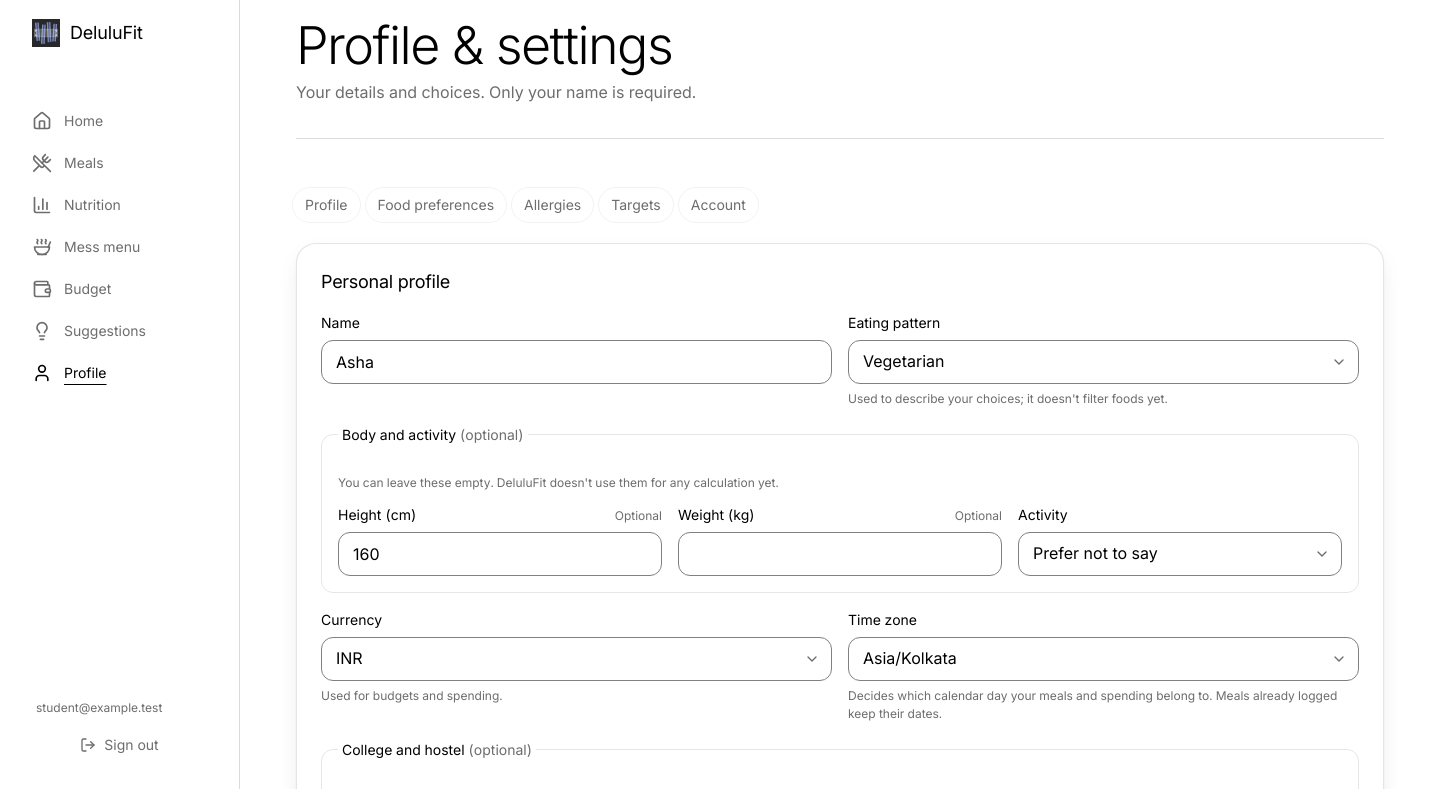
Test: personal profile › keeps the student's input when the server rejects or fails
Replace the text in the field labelled "Name" with "Ravi K" at (576, 362), box 321,340 -> 832,384
(page scrolled)
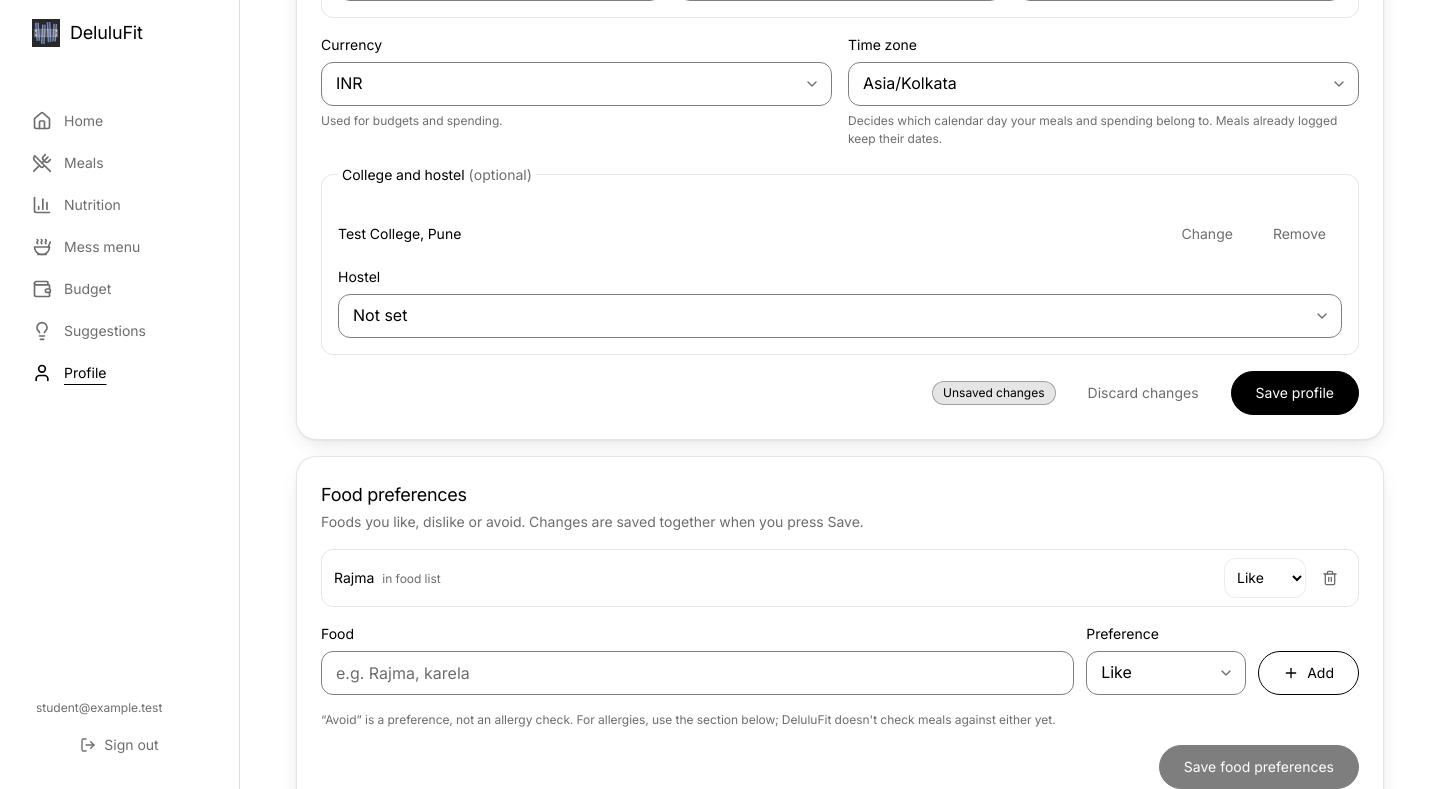
Click the button "Save profile" at (1295, 393), box 1230,371 -> 1359,415
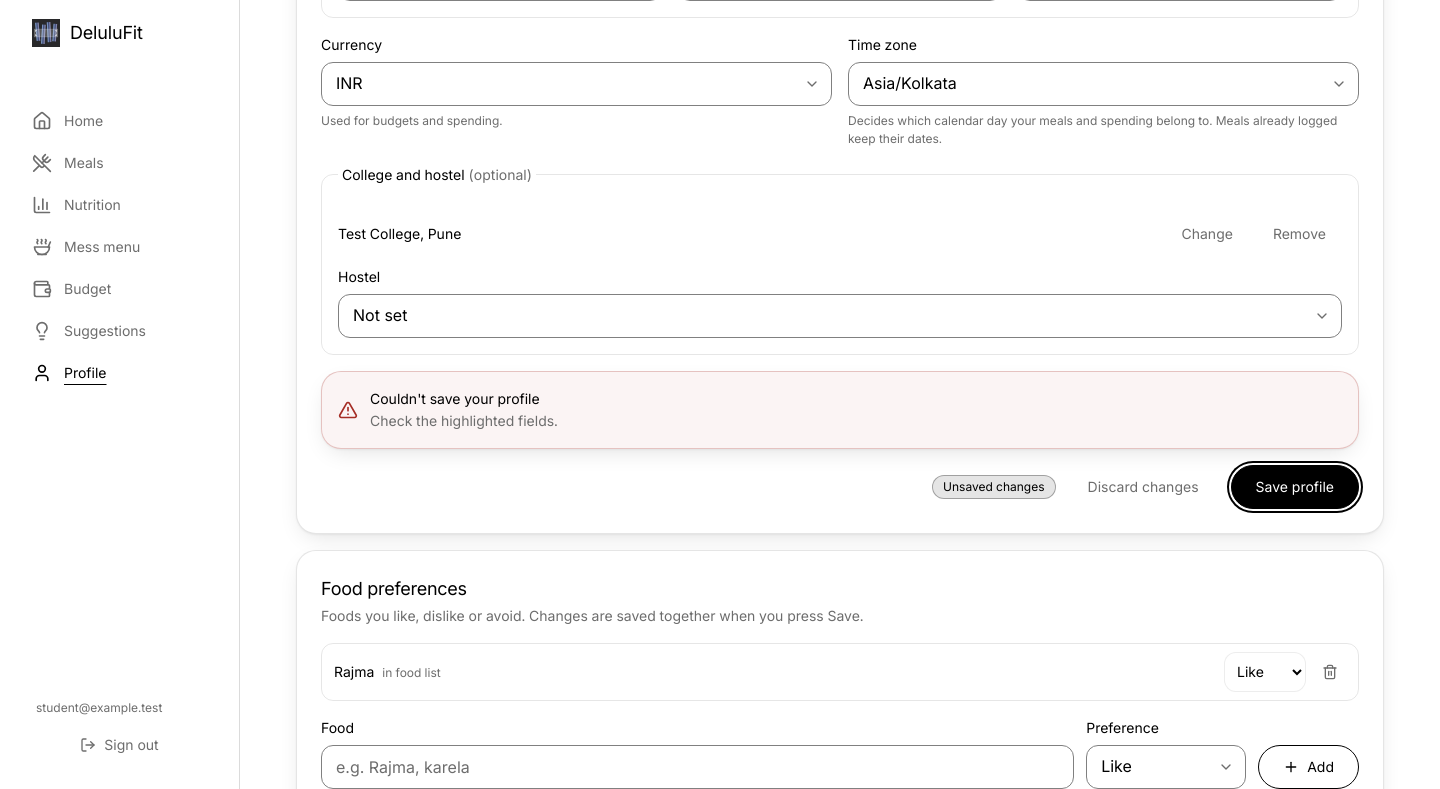
Click the button "Save profile" at (1295, 487), box 1230,465 -> 1359,509
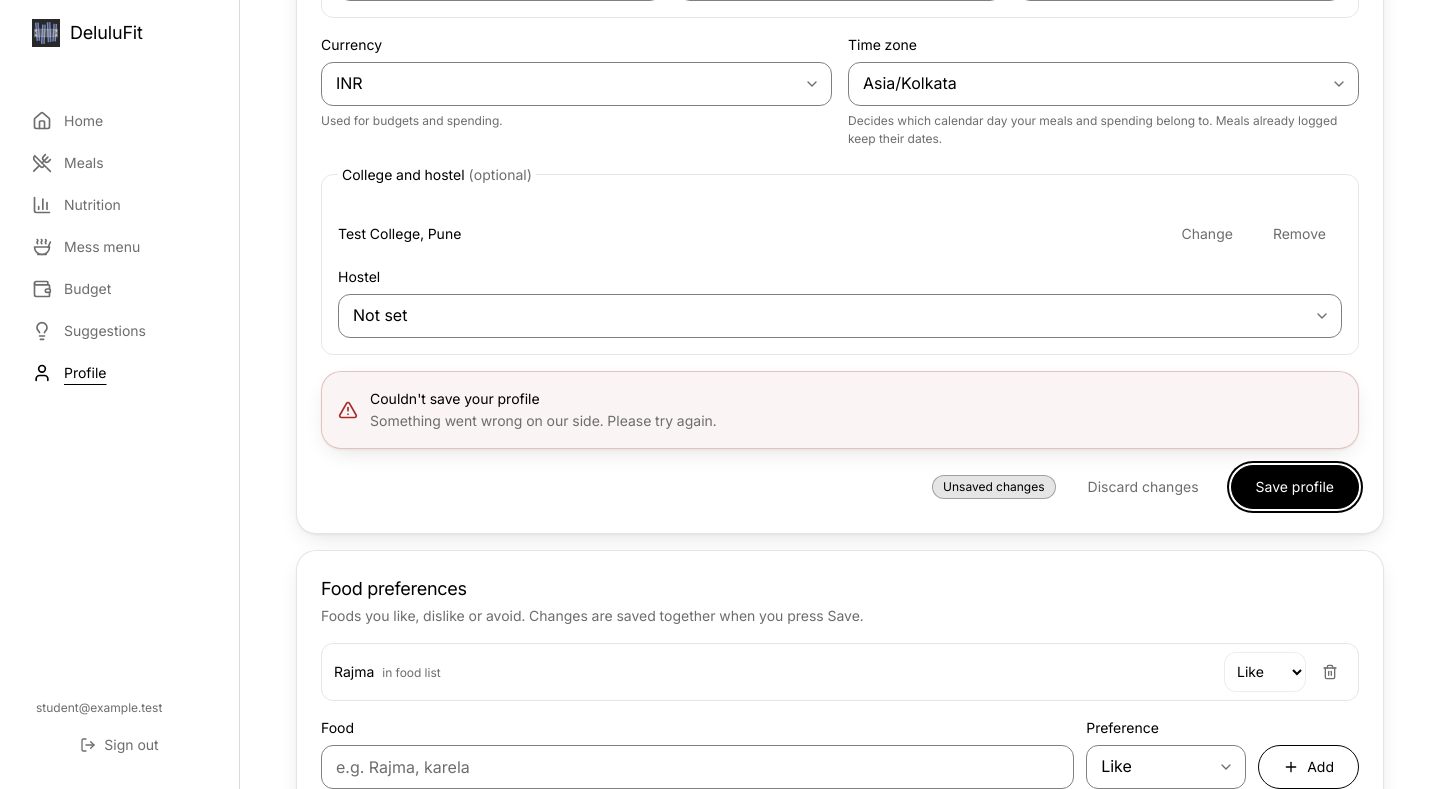
Expected: the text "Unsaved changes" is shown, 932,475 -> 1056,499
Expected: the text "Something went wrong on our side. Please try again." is shown, 370,412 -> 717,429
